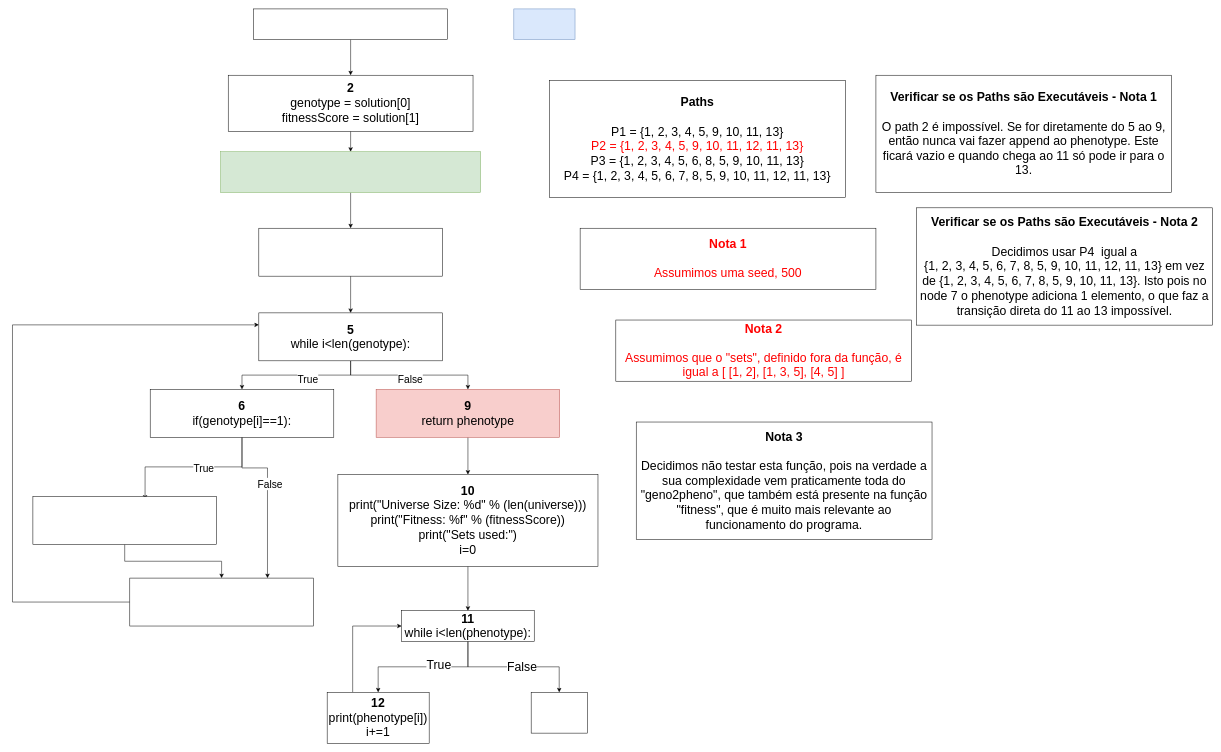
The diagram is 1221 pixels wide and 752 high, and some of its shapes have lost their labels. Each missing label, with the centre of its shape:
"1 - def displayResult(solution):" goes at [350,24].
"13 return" goes at [559,712].
"3 - phenotype = geno2pheno(genotype,sets)" goes at [350,172].
"4 phenotype = [] i=0" goes at [350,252].
"7 phenotype.append(sets[i])" goes at [124,520].
"8 i+=1" goes at [221,602].
"Vg = 4" goes at [544,24].
